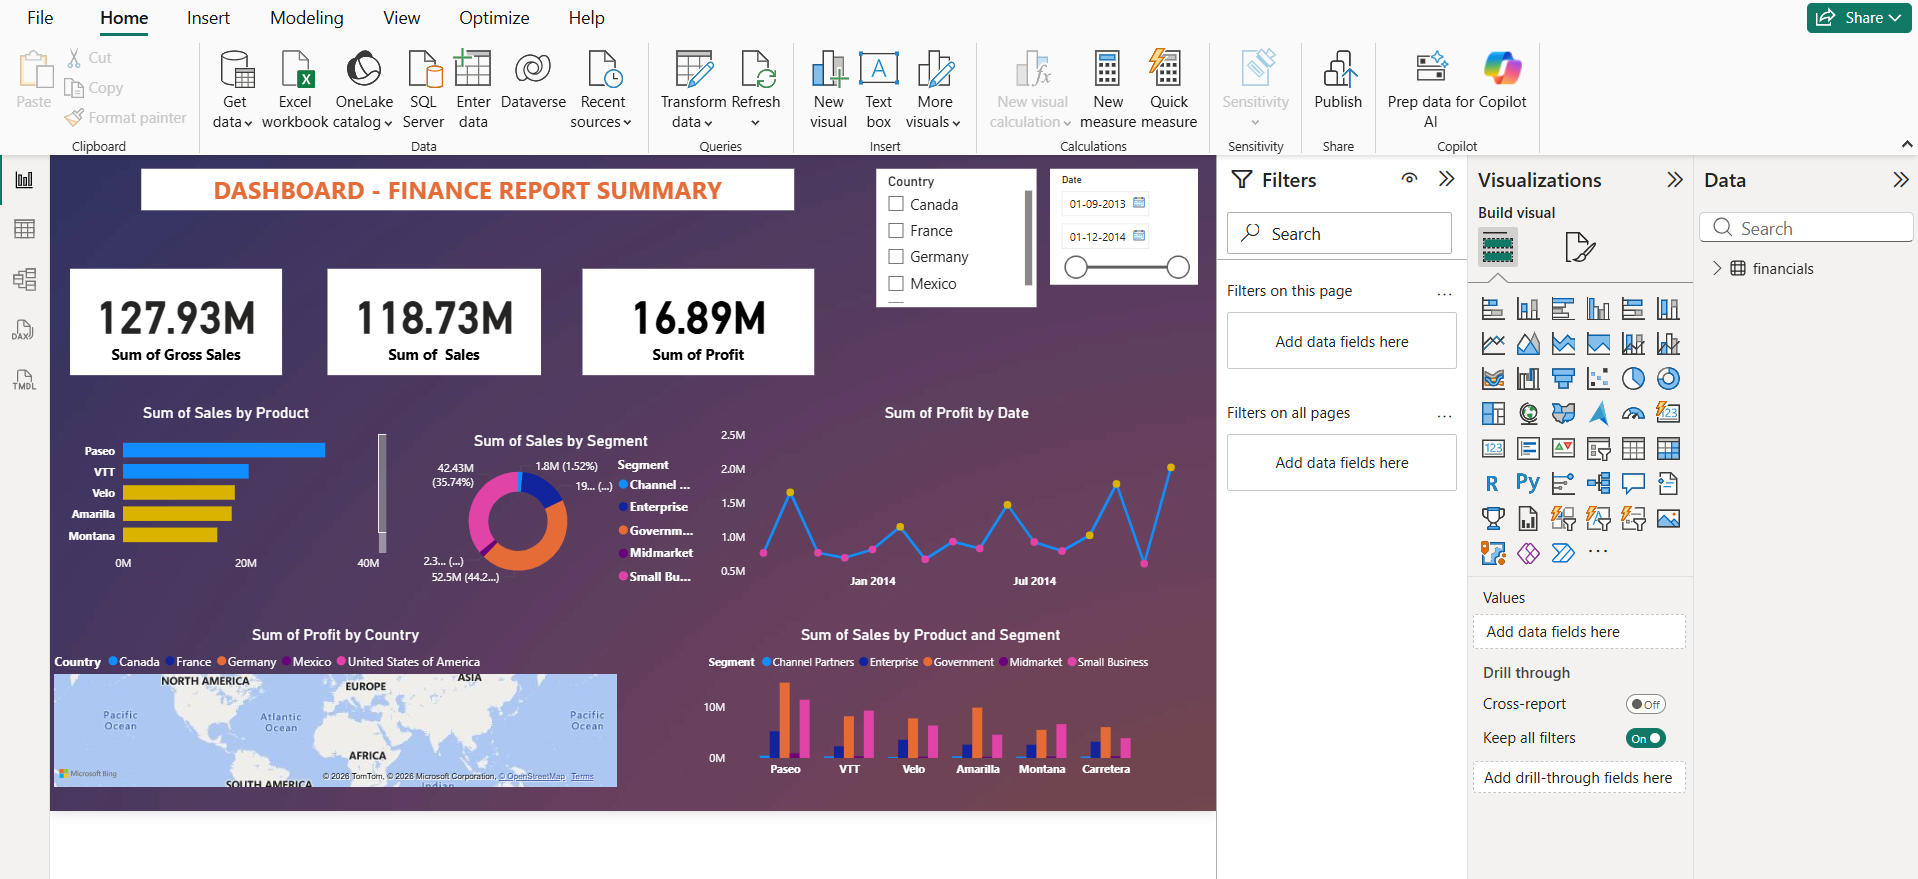

Layout of this report page (visuals, bound fields, positions):
{"tool":"powerbi","page":{"name":"Page 1","canvas":[1280,720],"ordinal":0},"visuals":[{"type":"lineChart","fields":{"Category":["financials.Date.Variation.Date Hierarchy.Year"],"Y":["Sum(financials.Profit)"]},"box":[731.1,272.7,528.4,213.5],"z":0},{"type":"clusteredColumnChart","fields":{"Series":["financials.Segment"],"Y":["Sum(financials. Sales)"],"Category":["financials.Product"]},"box":[711.8,516.4,509.1,176.1],"z":1000},{"type":"donutChart","fields":{"Series":["financials.Segment"],"Y":["Sum(financials. Sales)"]},"box":[399.3,302.8,323.3,177.3],"z":2000},{"type":"clusteredBarChart","fields":{"Category":["financials.Product"],"Y":["Sum(financials. Sales)"]},"box":[12.1,272.7,361.9,193],"z":3000},{"type":"map","fields":{"Size":["Sum(financials.Profit)"],"Series":["financials.Country"]},"box":[0,516,627,183],"z":4000},{"type":"card","fields":{"Values":["Sum(financials.Gross Sales)"]},"box":[21.7,124.3,232.8,117],"z":5000},{"type":"card","fields":{"Values":["Sum(financials. Sales)"]},"box":[304,125.5,234,117],"z":6000},{"type":"card","fields":{"Values":["Sum(financials.Profit)"]},"box":[583.9,125.5,254.6,117],"z":7000},{"type":"slicer","fields":{"Values":["financials.Date"]},"box":[1097.9,14.5,161.7,126.7],"z":8000},{"type":"slicer","fields":{"Values":["financials.Country"]},"box":[907.2,14.5,176.1,152],"z":9000},{"type":"textbox","box":[100.1,14.5,716.6,45.8],"z":10000}]}

Visuals, with their boxes on the page's 1280x720 design canvas (x1, y1, x2, y2). These are canvas units, not pixel positions in the 1918x879 screenshot, which may show the page scaled, cropped or inside an application window:
lineChart - financials.Date.Variation.Date Hierarchy.Year x Sum(financials.Profit): l=731, t=273, r=1260, b=486
clusteredColumnChart - financials.Segment x Sum(financials. Sales): l=712, t=516, r=1221, b=692
donutChart - financials.Segment x Sum(financials. Sales): l=399, t=303, r=723, b=480
clusteredBarChart - financials.Product x Sum(financials. Sales): l=12, t=273, r=374, b=466
map - Sum(financials.Profit) x financials.Country: l=0, t=516, r=627, b=699
card - Sum(financials.Gross Sales): l=22, t=124, r=254, b=241
card - Sum(financials. Sales): l=304, t=126, r=538, b=242
card - Sum(financials.Profit): l=584, t=126, r=838, b=242
slicer - financials.Date: l=1098, t=14, r=1260, b=141
slicer - financials.Country: l=907, t=14, r=1083, b=166
textbox: l=100, t=14, r=817, b=60
